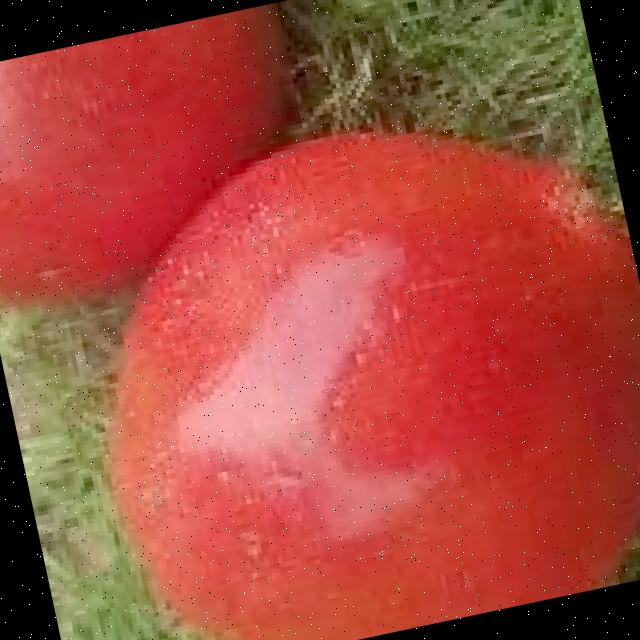Good_Pomegranate-50-60-days: (0, 0, 619, 556)
